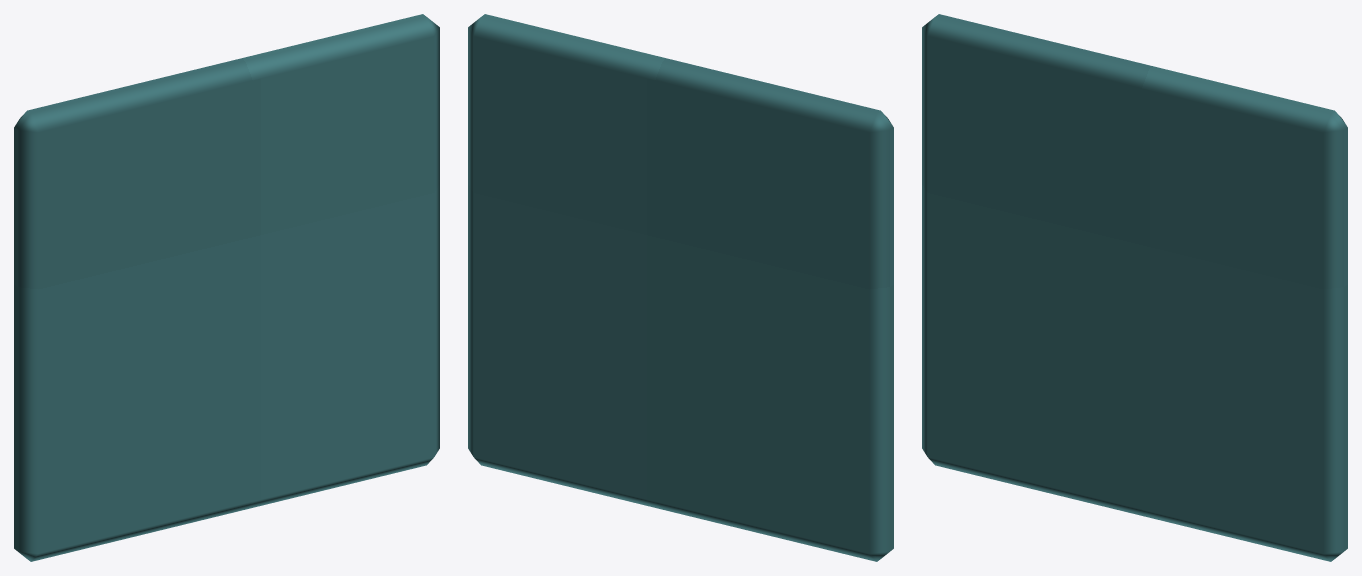
Rendered from Badge.glb.
The picture shows the model from 3 angles, left to right: view 1: azimuth 30°, elevation 25°; view 2: azimuth 150°, elevation 25°; view 3: azimuth 330°, elevation 25°; orthographic projection.
Visible parts, largest first — view 1: Badge; view 2: Badge; view 3: Badge.
Boxes of the visible parts, left/top/right/bottom form: Badge: left=14, top=14, right=439, bottom=561; Badge: left=468, top=14, right=893, bottom=561; Badge: left=922, top=14, right=1347, bottom=561.
Size of the model in its own units: 0.064 by 0.065 by 0.005.
Materials: 1 (1 with a texture image).
